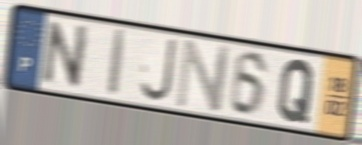6: (227, 50, 271, 118)
I: (105, 27, 130, 101)
J: (137, 36, 179, 105)
N: (174, 37, 234, 114), (39, 19, 93, 91)
Q: (275, 57, 317, 126)
